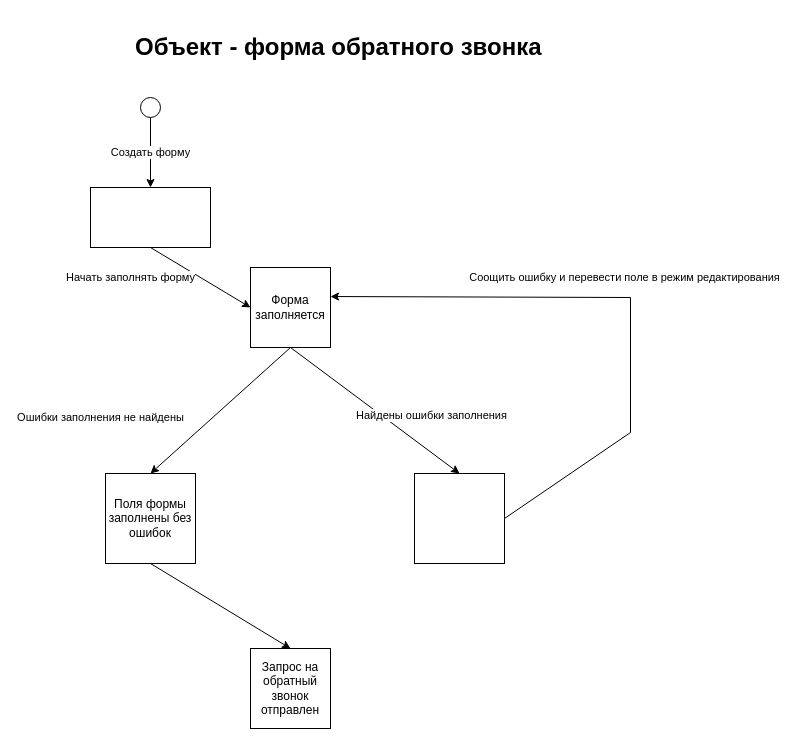
This 797x746 diagram has some shape labels left out. Here are the shapes that lost their labels. From the top down, the centre of each, then its label:
At pixel 150 217: "Открыта".
At pixel 459 518: "Поля формы заполнены с ошибками".
